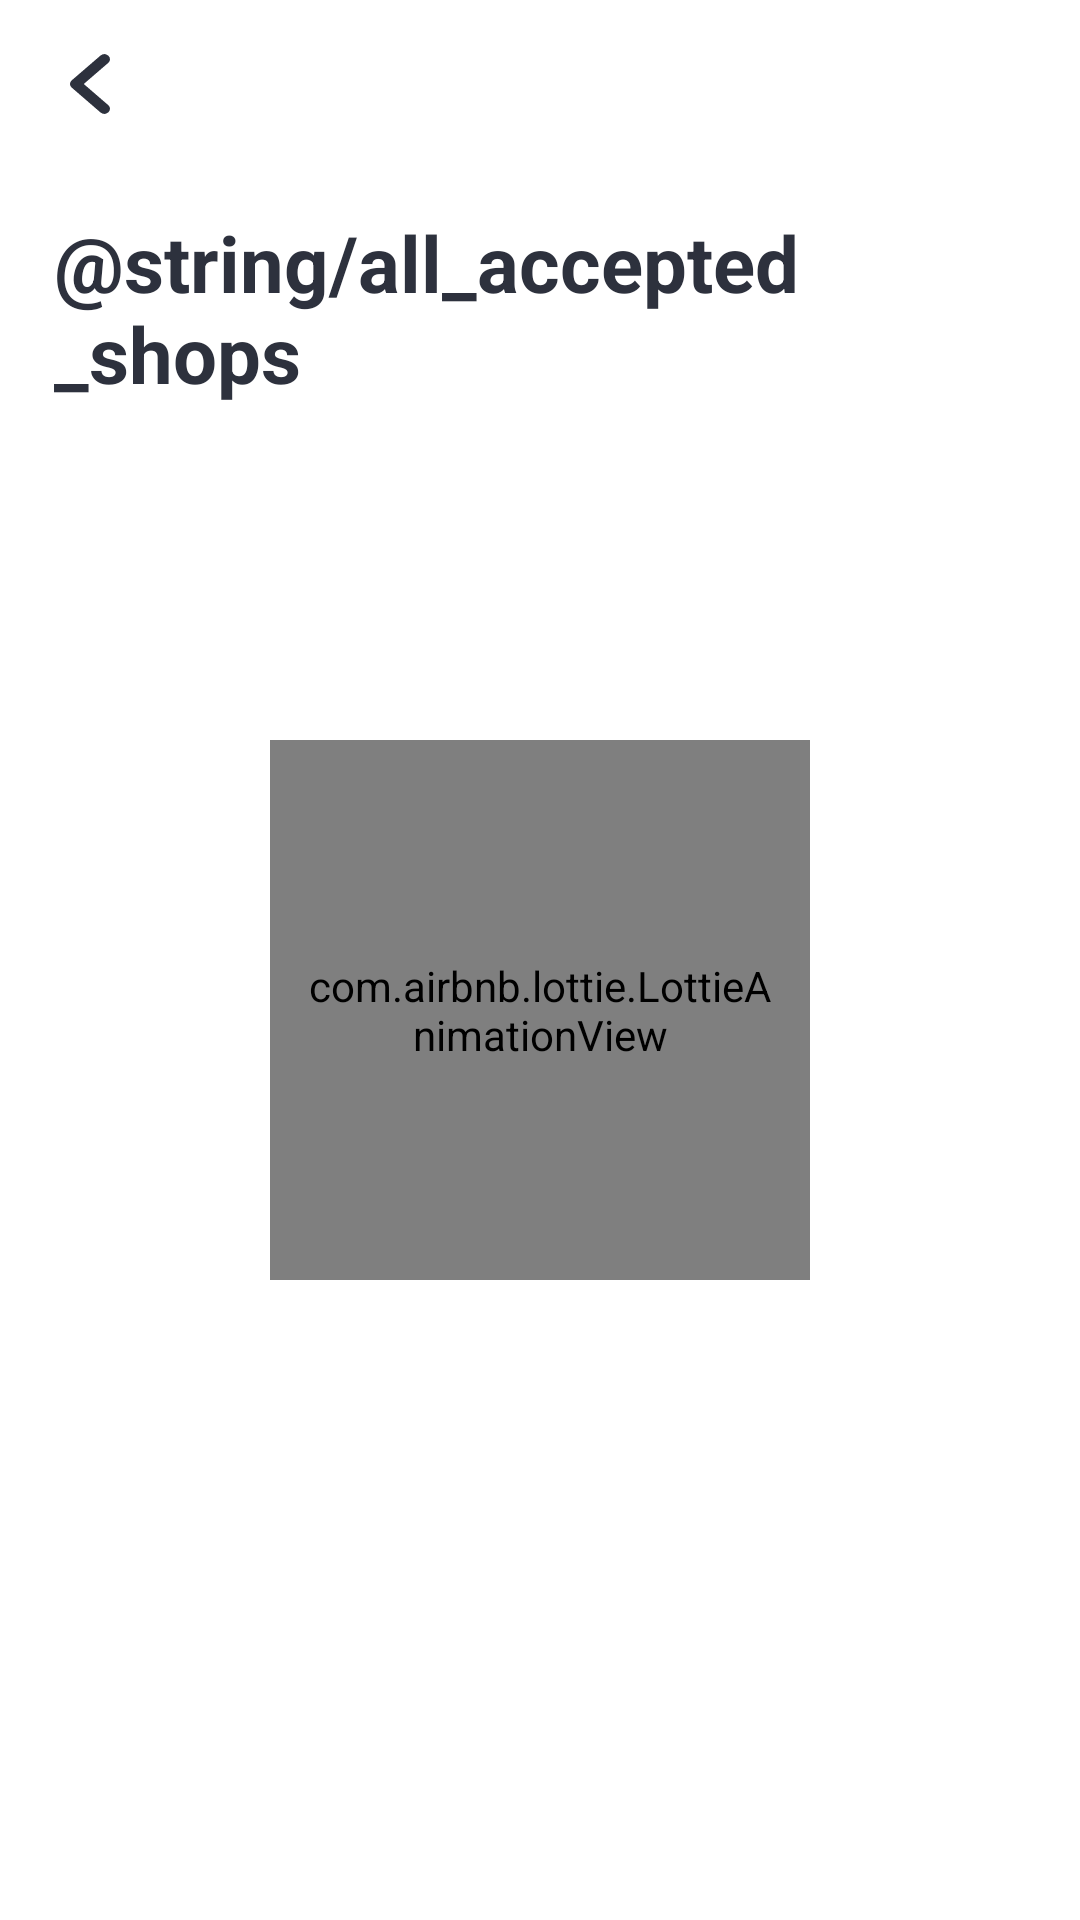

Named icons in this screenshot (1080w x 1920h) and their bounding boxes, (x1, y1, x2, y2):
back: (70, 54, 110, 114)
